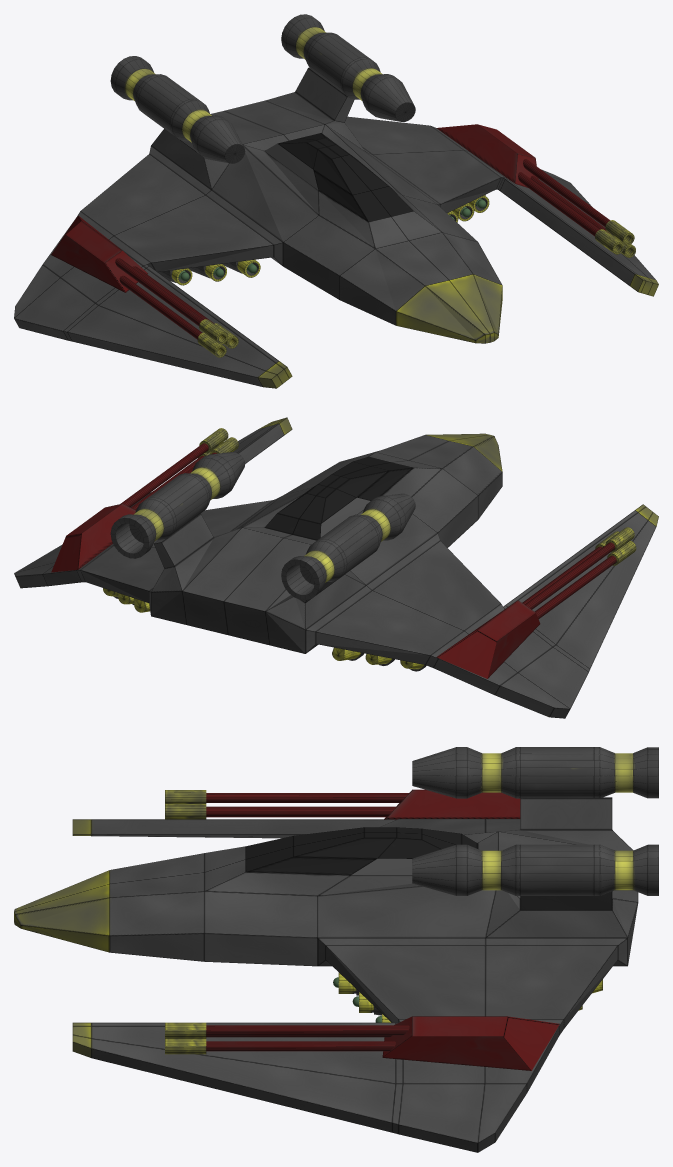
Rendered from EnemyShipFBX.fbx.
3 renders of one model, top to bottom at view 1: azimuth 30°, elevation 25°; view 2: azimuth 150°, elevation 25°; view 3: azimuth 270°, elevation 25°, orthographic. The views are drawn at different scales.
Visible parts, largest first — view 1: ShipBody, EngineRight, EngineLeft, polySurface47, polySurface46, polySurface62; view 2: ShipBody, polySurface47, EngineRight, EngineLeft, polySurface46, polySurface62; view 3: ShipBody, polySurface46, EngineRight, EngineLeft, polySurface47, polySurface62.
Part boxes in pixels (box(x1,y1,x2,y2)): ShipBody: box(14, 67, 658, 388); EngineRight: box(281, 14, 415, 121); EngineLeft: box(110, 56, 245, 163); polySurface47: box(51, 215, 238, 357); polySurface46: box(436, 124, 635, 257); polySurface62: box(158, 195, 489, 285); ShipBody: box(14, 417, 658, 718); polySurface47: box(436, 527, 636, 678); EngineRight: box(110, 452, 245, 558); EngineLeft: box(281, 493, 415, 600); polySurface46: box(51, 428, 238, 572); polySurface62: box(103, 588, 426, 671); ShipBody: box(14, 797, 638, 1152); polySurface46: box(165, 1016, 559, 1070); EngineRight: box(412, 844, 658, 895); EngineLeft: box(412, 747, 658, 798); polySurface47: box(165, 789, 520, 819); polySurface62: box(338, 972, 602, 1022).
Bounding box in the file's own units: 24.34 × 7.08 × 20.84.
